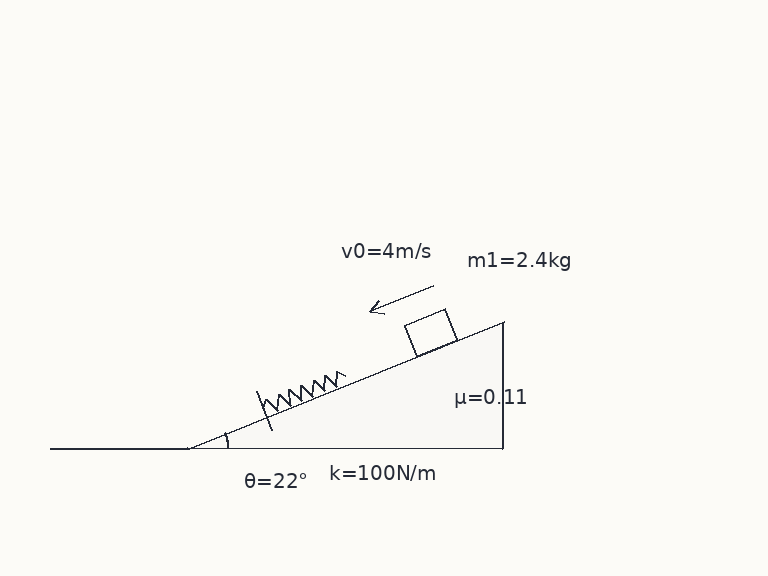block: (402, 307, 459, 358)
ramp: (186, 319, 504, 450)
spring: (261, 369, 347, 412)
